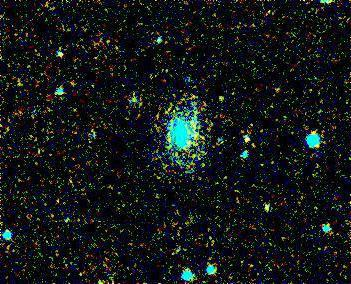star: (206, 82, 236, 112)
